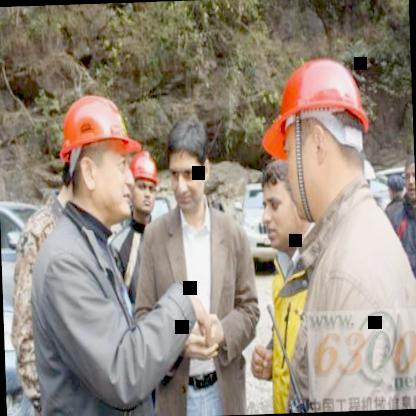head: (163, 108, 213, 211), (254, 154, 305, 249), (402, 154, 416, 208)
helmet: (260, 52, 374, 233), (55, 82, 136, 225), (126, 148, 160, 218)
